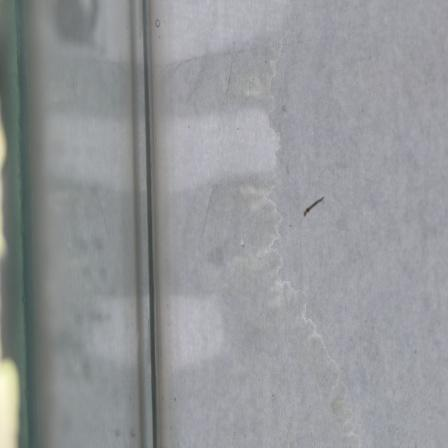Jentik-Nyamuk: (300, 193, 328, 222)
